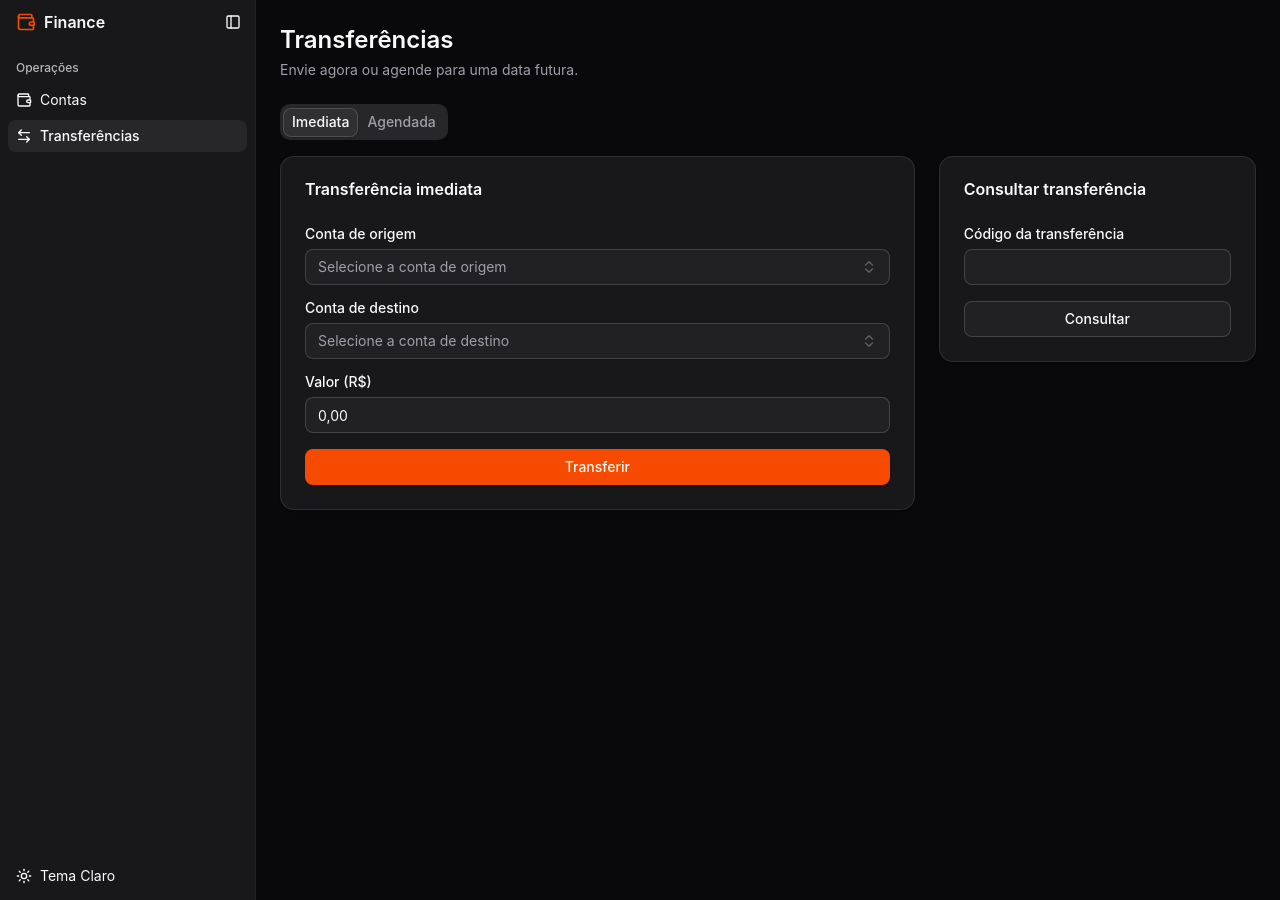
it: Account select field › tells the user when the account search fails
Click the dropdown labelled "conta de origem" at (412, 266), box [305,249,890,285]
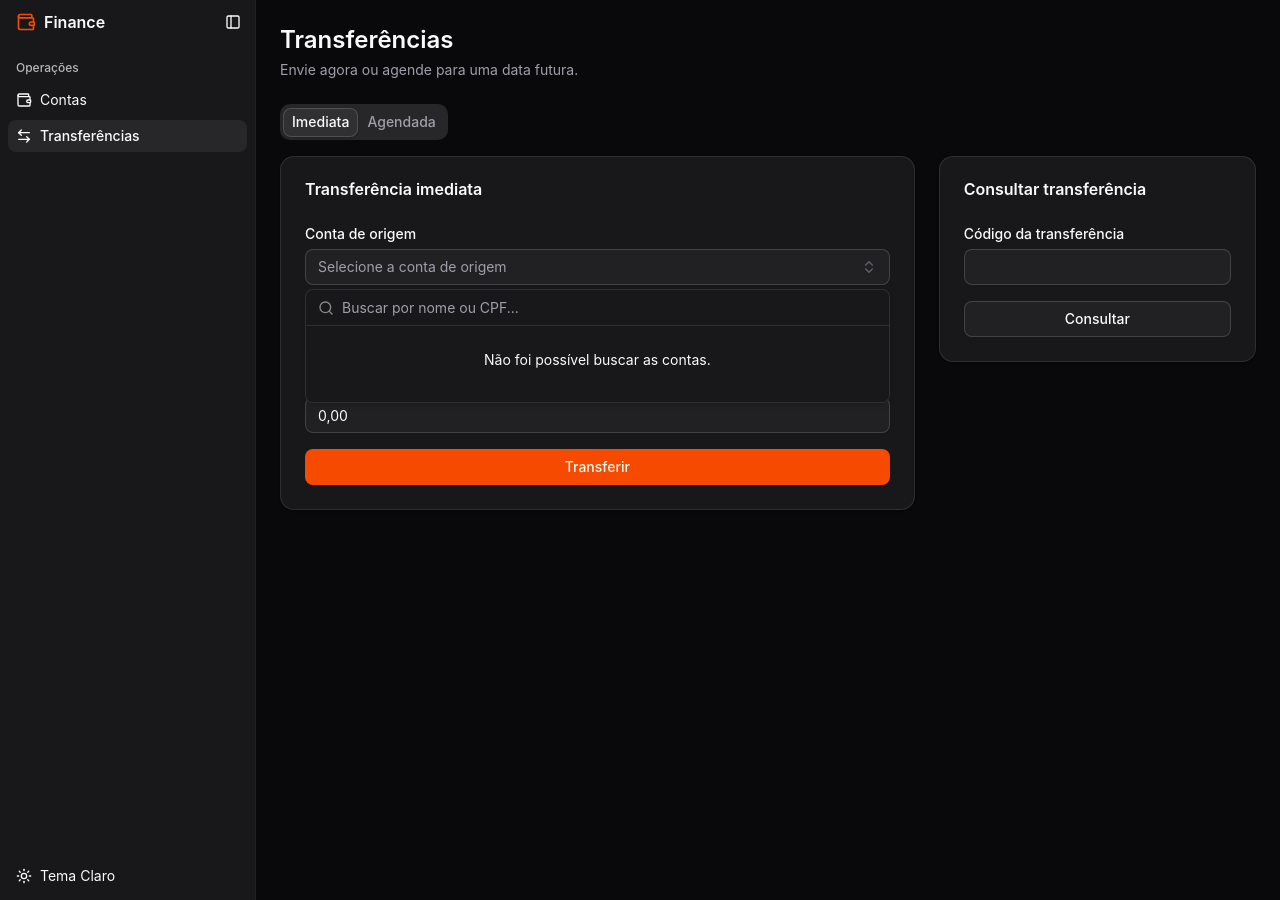
Expected: the text "Não foi possível buscar as contas." is shown, [484,351,711,368]
